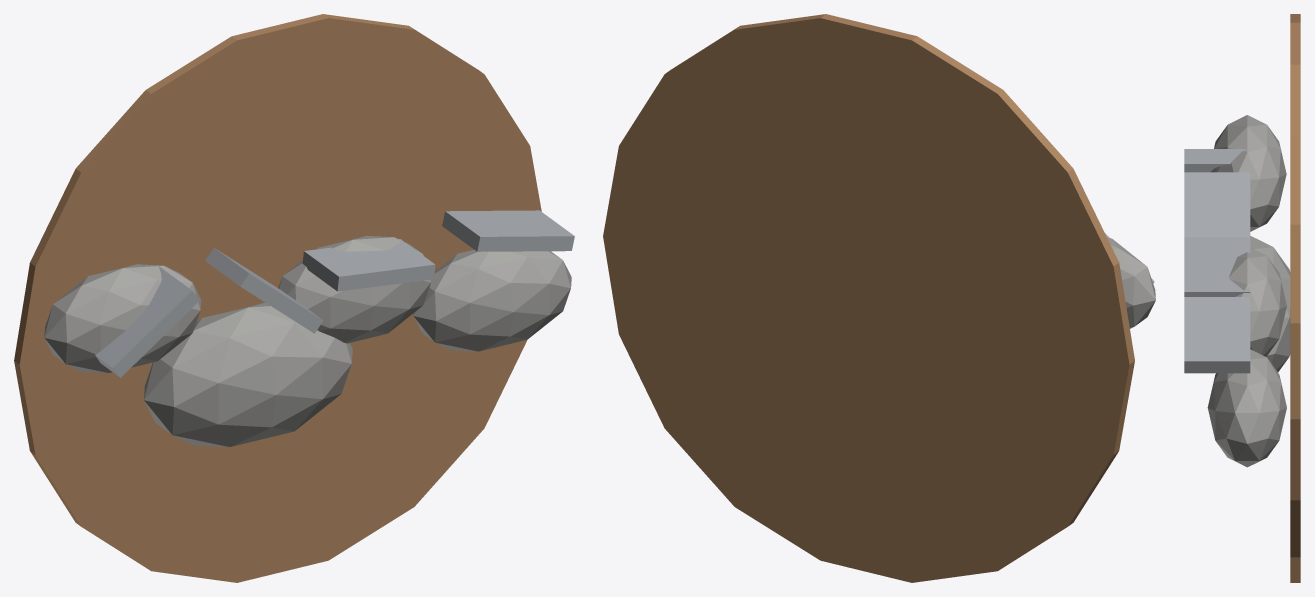
Rendered from 03_ambient_object_cluster.glb.
The picture shows the model from 3 angles, left to right: view 1: azimuth 30°, elevation 25°; view 2: azimuth 150°, elevation 25°; view 3: azimuth 270°, elevation 25°; orthographic projection. The views are drawn at different scales.
Visible parts, largest first — view 1: scatter_base, scrap_rock_1, scrap_rock_3, scrap_rock_0, scrap_rock_2, scrap_plate_3, scrap_plate_2, scrap_plate_0, scrap_plate_1; view 2: scatter_base, scrap_rock_0; view 3: scrap_rock_3, scatter_base, scrap_plate_3, scrap_rock_0, scrap_plate_1, scrap_rock_2, scrap_plate_2, scrap_rock_1, scrap_plate_0.
Part boxes in pixels (x1,y1,x2,y2): scatter_base: (14,14,541,582); scrap_rock_1: (144,302,352,446); scrap_rock_3: (413,249,571,351); scrap_rock_0: (44,264,201,372); scrap_rock_2: (278,236,431,343); scrap_plate_3: (442,210,574,251); scrap_plate_2: (302,239,435,291); scrap_plate_0: (95,265,199,377); scrap_plate_1: (205,248,323,333); scatter_base: (603,14,1134,582); scrap_rock_0: (1107,237,1155,328); scrap_rock_3: (1207,349,1286,467); scatter_base: (1290,14,1300,582); scrap_plate_3: (1184,297,1250,373); scrap_rock_0: (1210,115,1286,231); scrap_plate_1: (1184,172,1250,237); scrap_rock_2: (1229,248,1286,356); scrap_plate_2: (1184,237,1250,296); scrap_rock_1: (1250,236,1290,372); scrap_plate_0: (1184,149,1250,172).
Size of the model in its own units: 1.91 by 1.87 by 0.3875.
